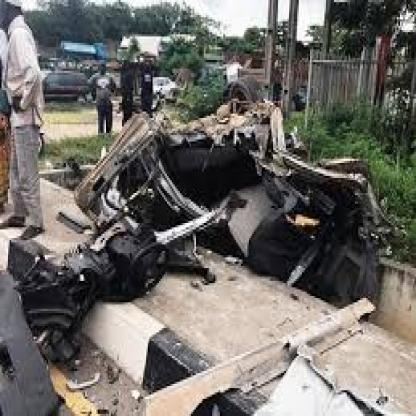accident: (12, 61, 412, 385)
